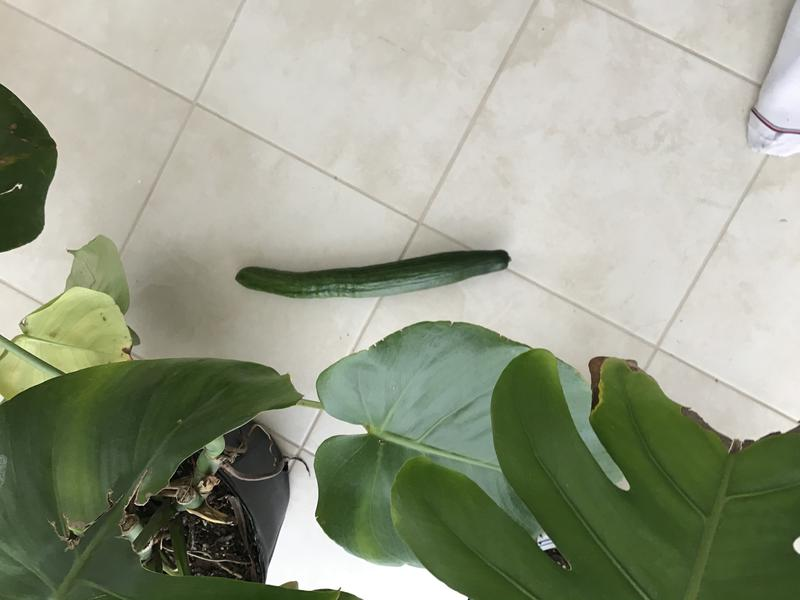cucumber: (225, 234, 532, 307)
